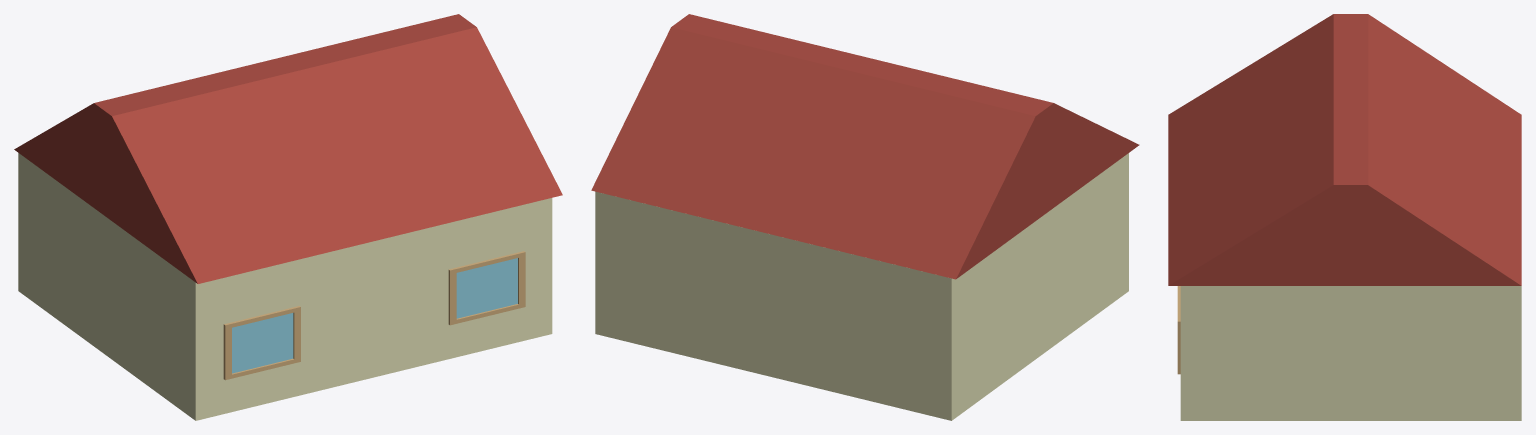
The model's file is House1.fbx.
3 renders of one model, left to right at view 1: azimuth 30°, elevation 25°; view 2: azimuth 150°, elevation 25°; view 3: azimuth 270°, elevation 25°, orthographic. The views are drawn at different scales.
Parts seen in each view (by area): view 1: Cube.002, Cube; view 2: Cube.002, Cube; view 3: Cube.002, Cube.
Part boxes in pixels (x1,y1,x2,y2): Cube.002: (14,14,562,283); Cube: (18,153,552,420); Cube.002: (591,14,1139,279); Cube: (595,153,1128,420); Cube.002: (1168,14,1521,285); Cube: (1177,286,1521,420).
Size of the model in its own units: 667 by 432 by 583.
